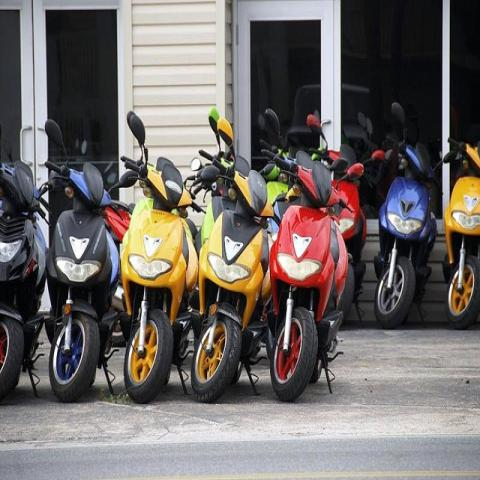motorcycle: (192, 116, 302, 406), (44, 118, 138, 404), (119, 109, 207, 404), (262, 150, 364, 402), (372, 96, 460, 330), (308, 114, 384, 326), (1, 161, 52, 405), (196, 153, 280, 258), (442, 137, 480, 329), (269, 173, 294, 200)
